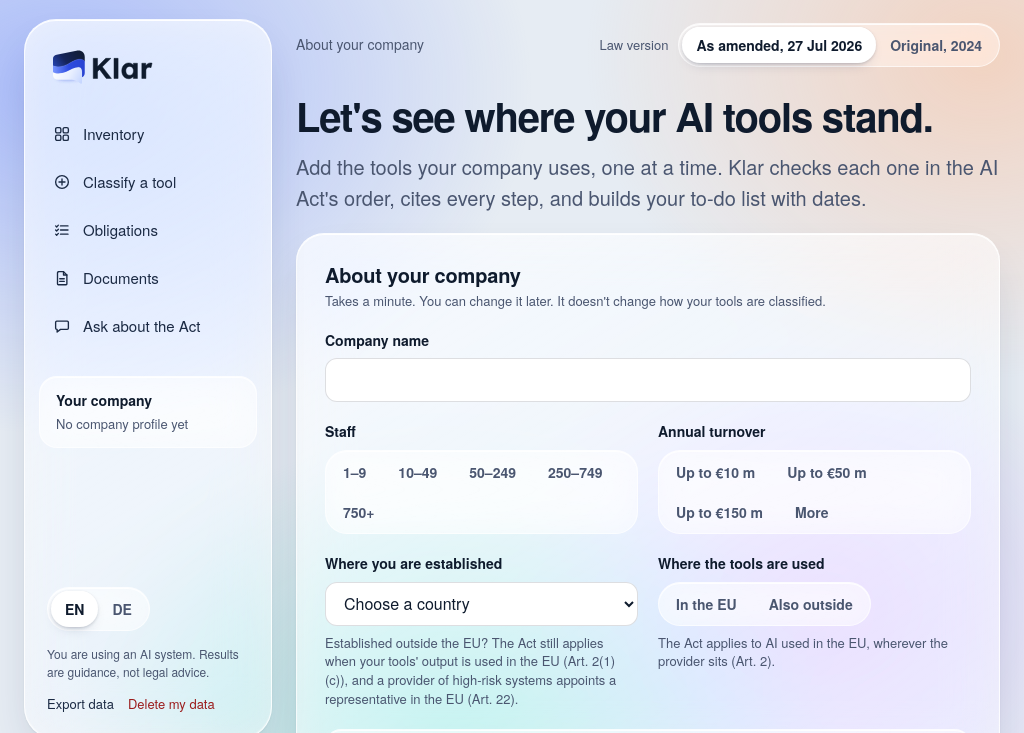
Welcome, the derived size line › names an SME and quotes Art. 99(3) and Art. 99(6) with their sources
expect the heading "Let's see where your AI tools stand." is shown: met, box x1=296 y1=91 x2=1000 y2=141
Click the button "10–49": (418, 472) x1=384 y1=454 x2=451 y2=490
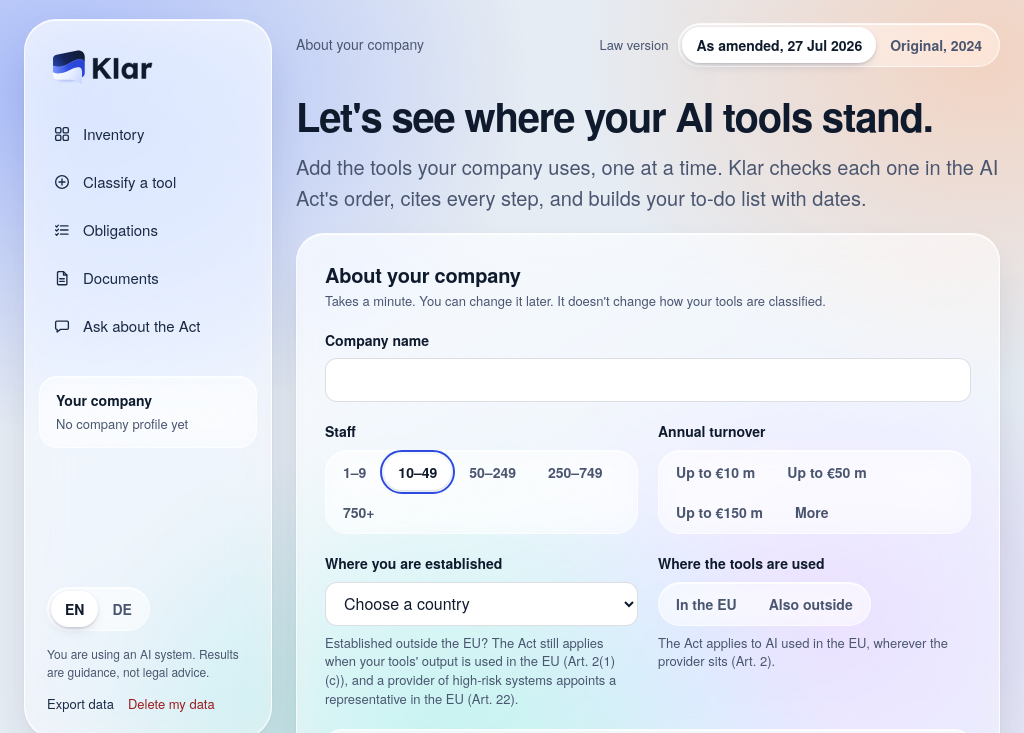
Click the button "Up to €50 m": (827, 472) x1=773 y1=454 x2=881 y2=490
(page scrolled)
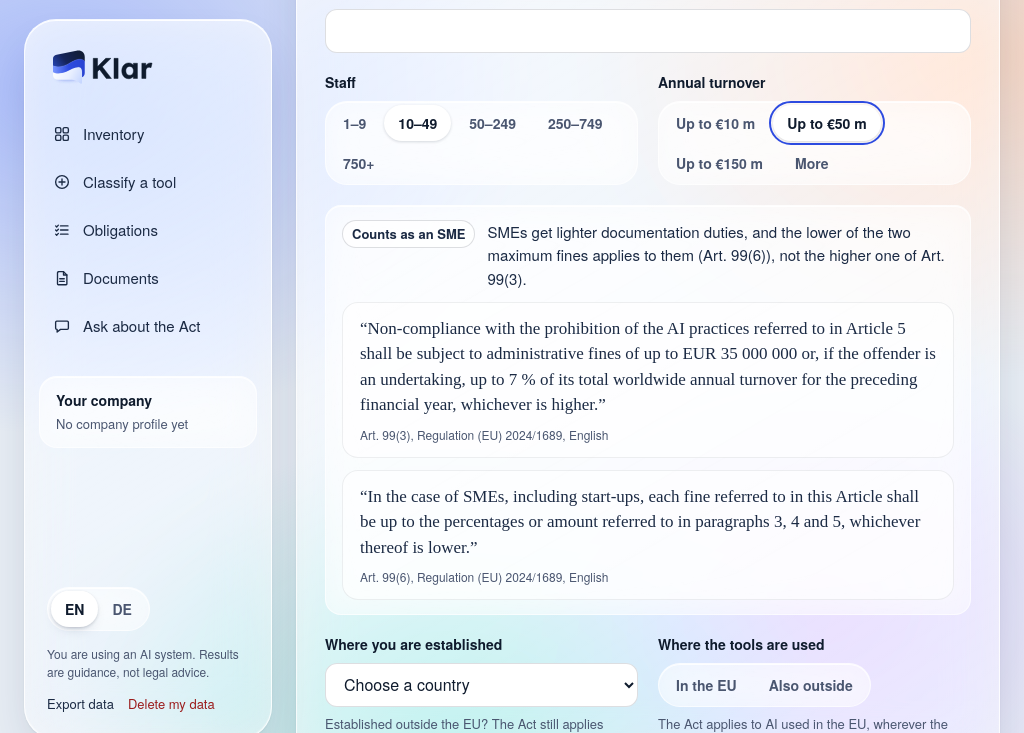
expect the text "Counts as an SME" is shown: met, box x1=342 y1=220 x2=475 y2=248
expect the text "Art. 99(6), Regulation (EU) 2024/1689, English" shows "In the case of SMEs": met, box x1=360 y1=487 x2=920 y2=557
expect the text "Art. 99(3), Regulation (EU) 2024/1689, English" shows "whichever is higher": met, box x1=360 y1=319 x2=936 y2=414
